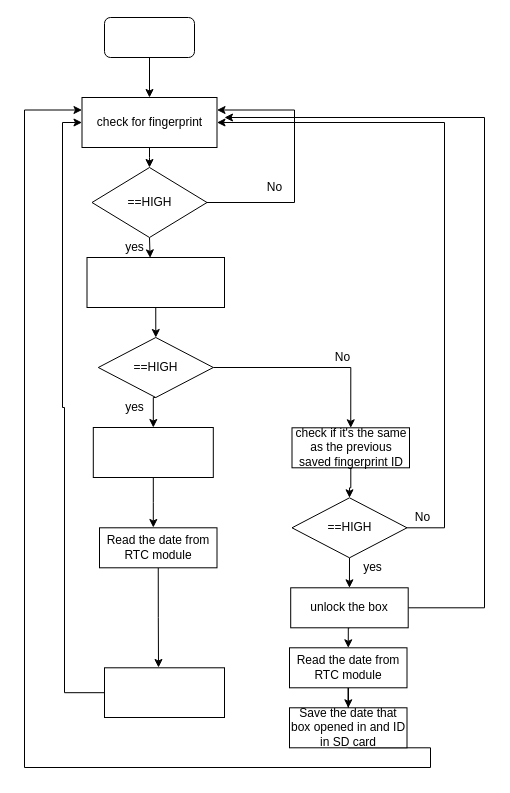
The diagram is 510 pixels wide and 793 high, and some of its shapes have lost their labels. The centre of each missing label's shape, as x and y in pixels:
check the state of the lock if it's open: (x=155, y=282)
lock the box and save the date from RTC to SD card: (x=152, y=452)
Save the date that box closed in and ID in SD card: (x=164, y=692)
Start: (x=149, y=37)
